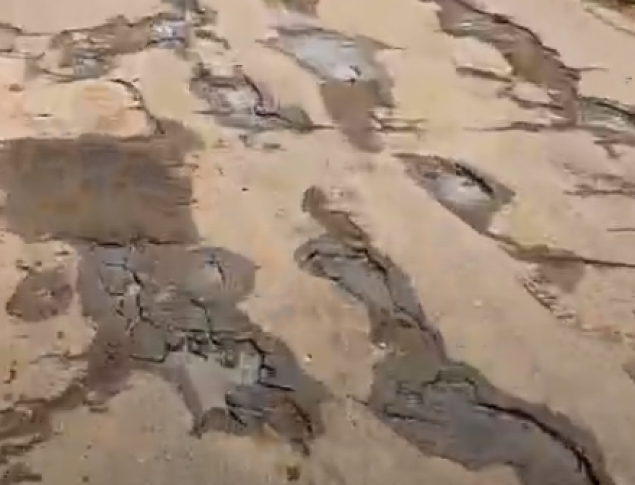Berlubang: (345, 299, 610, 485), (147, 325, 316, 448), (282, 208, 422, 309), (491, 54, 635, 136), (420, 1, 572, 66), (188, 59, 294, 145), (83, 224, 165, 326), (391, 149, 500, 219), (283, 20, 393, 86), (121, 1, 234, 52)
